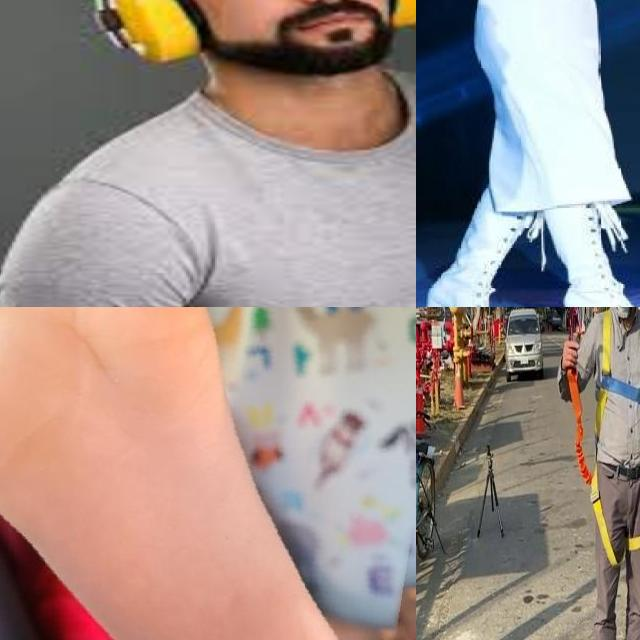Barefoots: (0, 307, 333, 640), (0, 307, 286, 640)
Ear-protection: (68, 0, 416, 76)
Harness: (567, 371, 640, 568), (597, 310, 640, 444)
person: (417, 0, 640, 307)
shoes: (416, 195, 525, 307), (536, 208, 640, 307)
